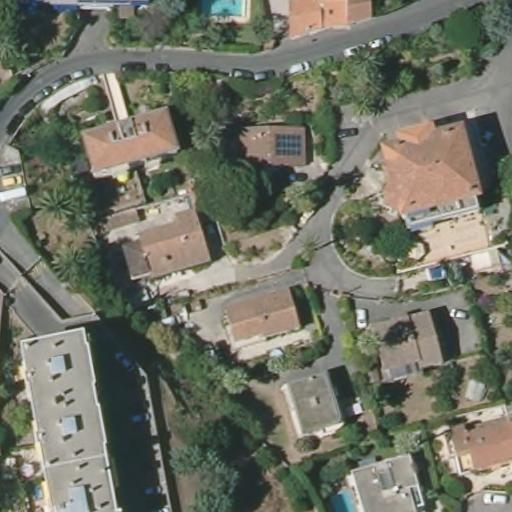pool: (197, 0, 247, 20), (330, 482, 357, 509)
